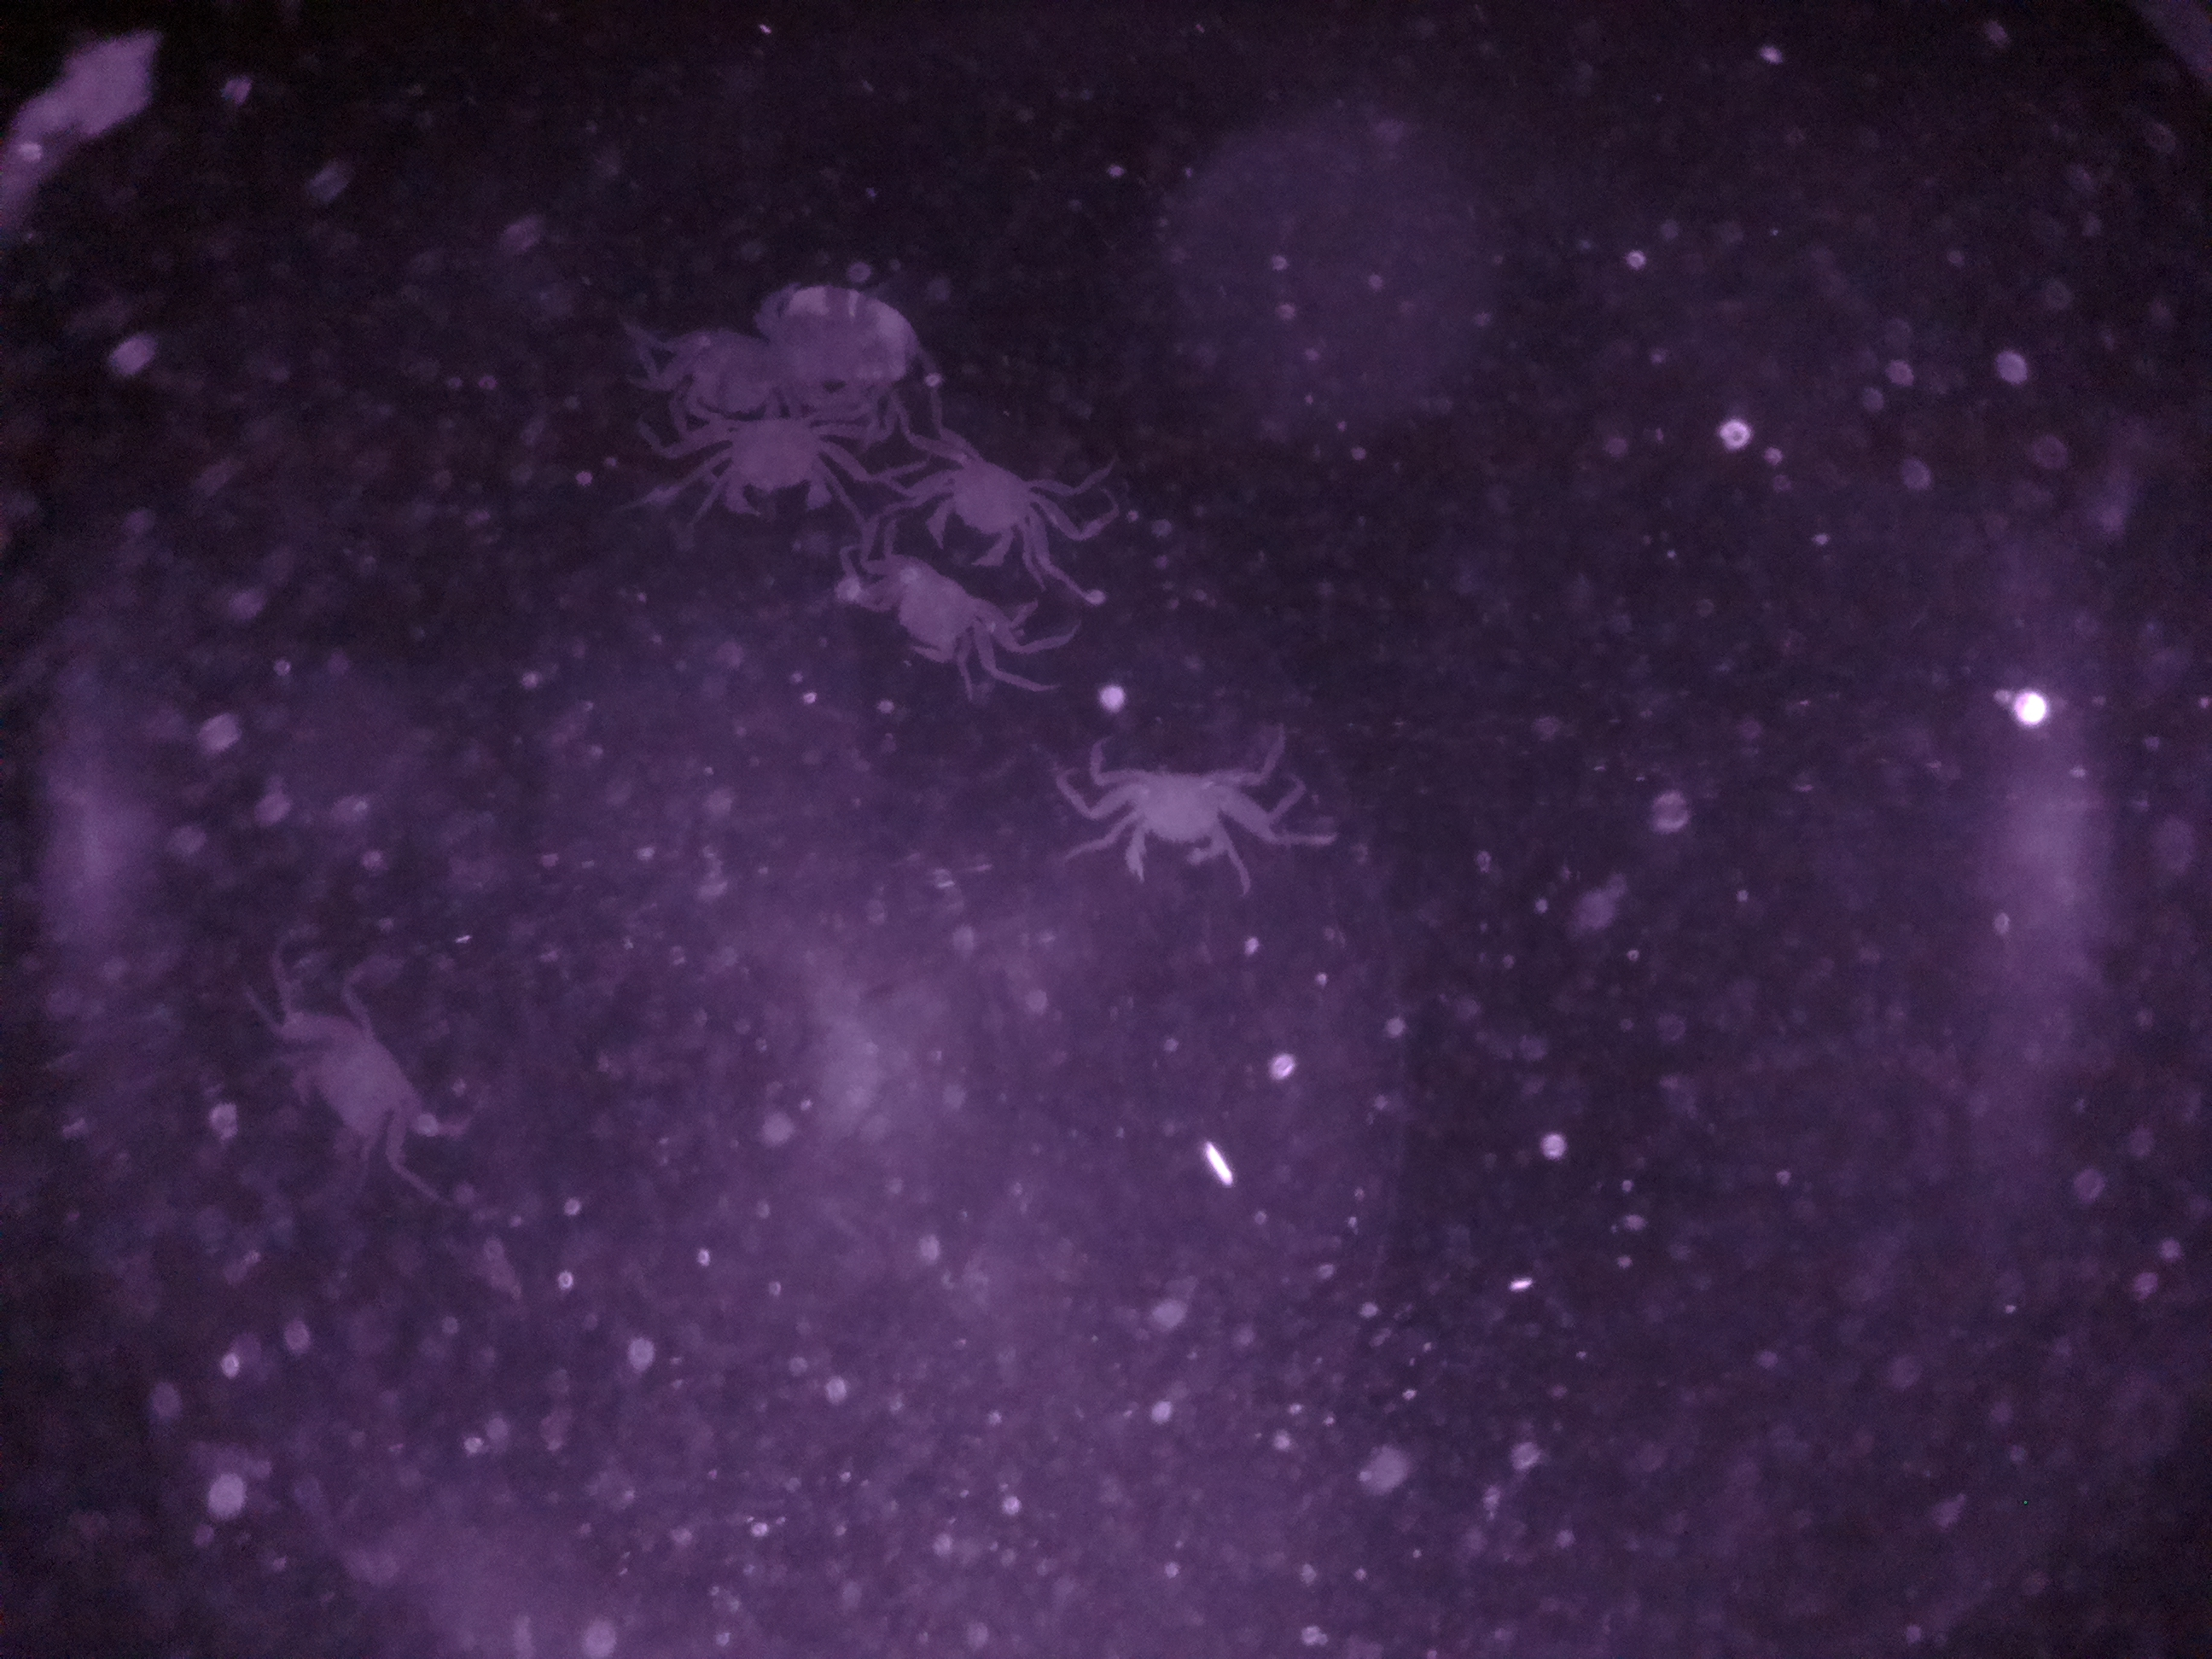Crab: (1076, 739, 1287, 889), (892, 425, 1089, 573)
